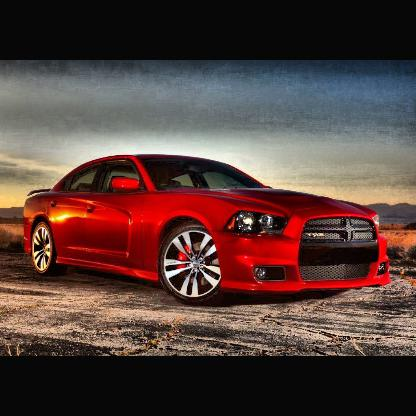Dodge Charger Sedan 2012: (24, 157, 391, 308)
